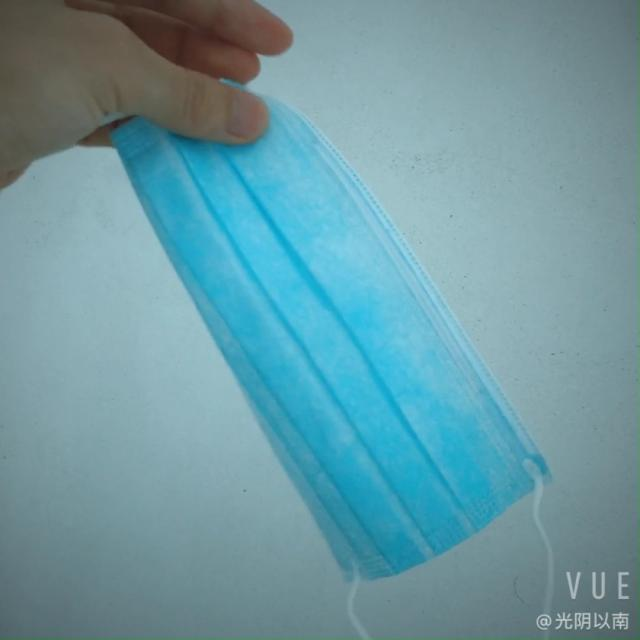non-organic waste: (139, 57, 551, 570)
